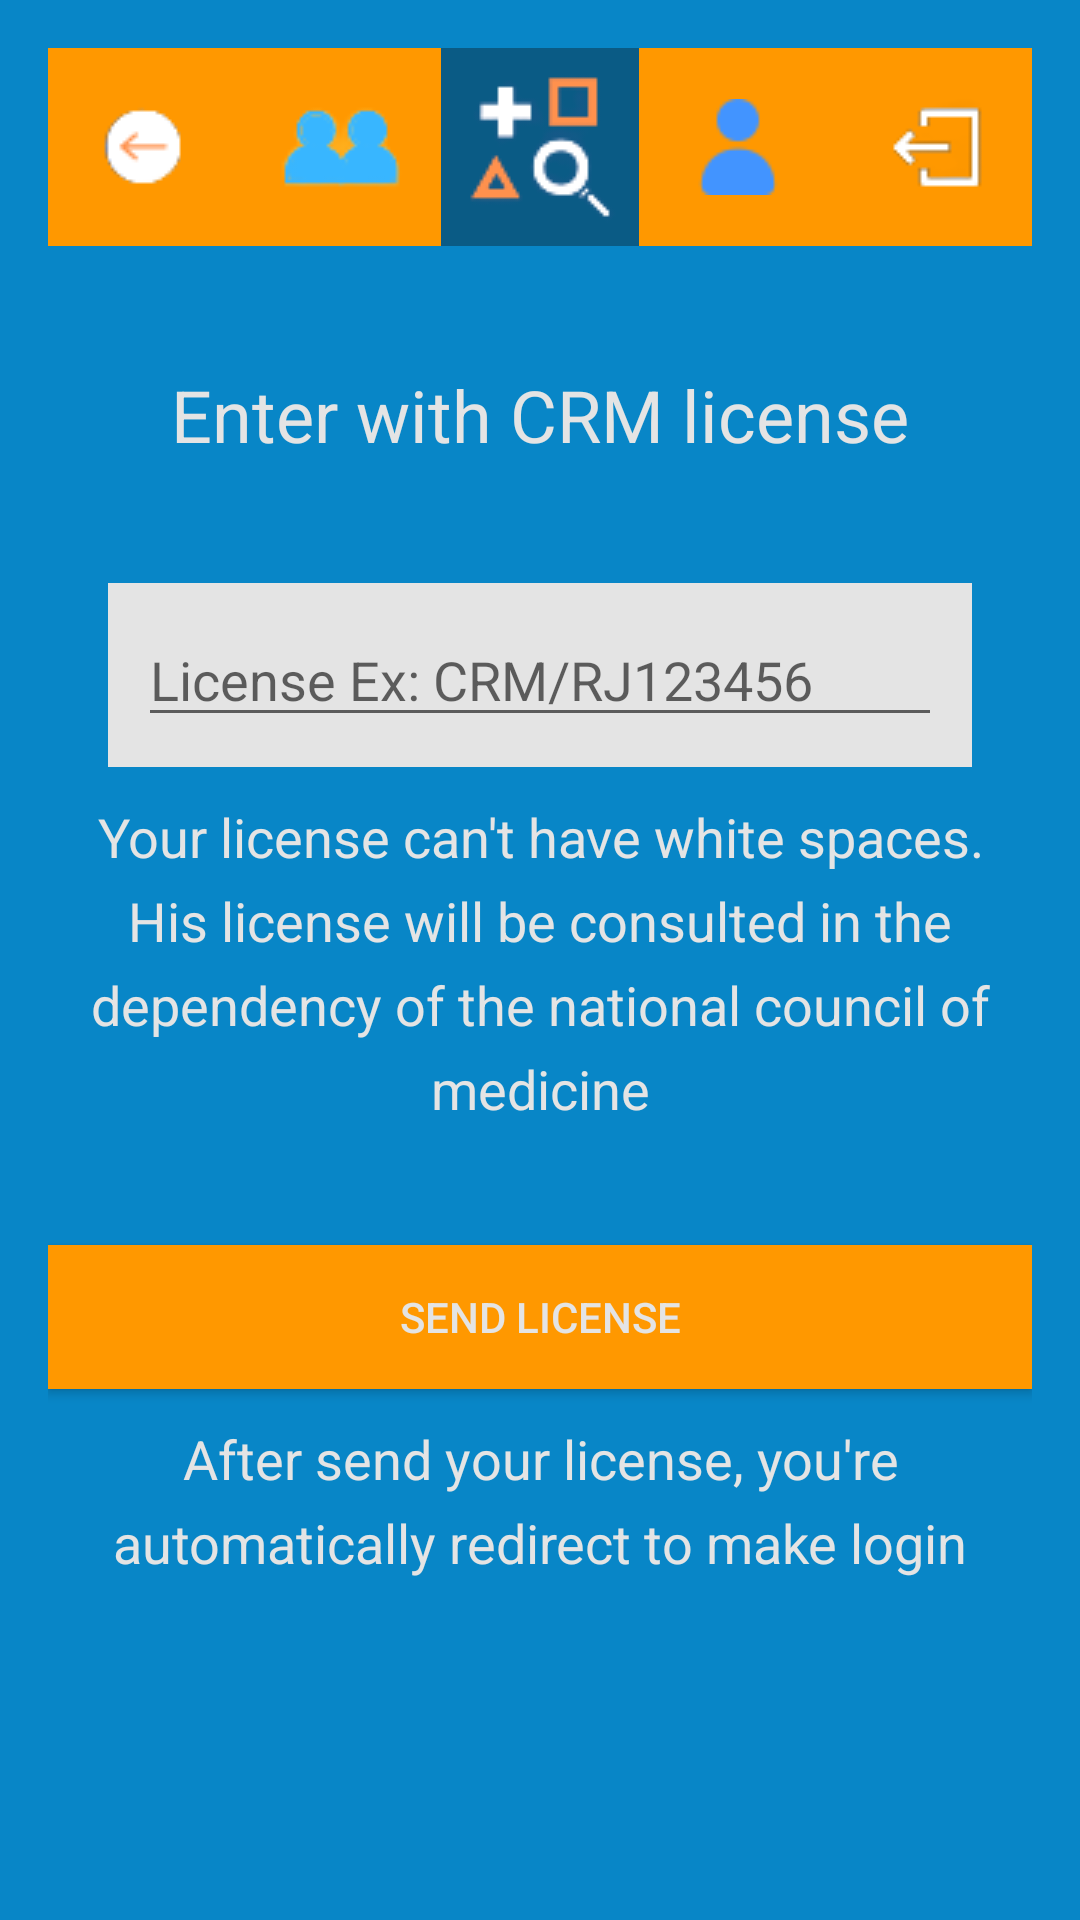

Named icons in this screenshot (1080*1920) and their centers, (x=x, y=y):
button profile description: (x=738, y=147)
profiles button: (x=342, y=147)
